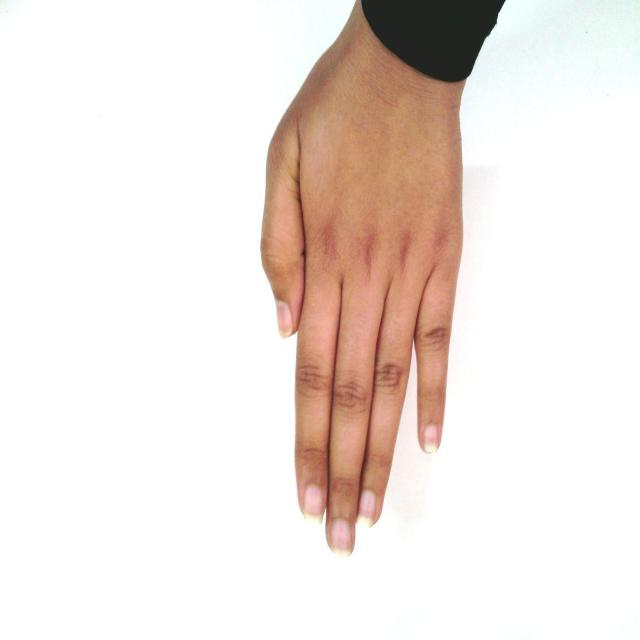Fingernail: (330, 519, 352, 556), (304, 484, 322, 525), (357, 492, 376, 530), (276, 302, 292, 337), (423, 424, 438, 453)
